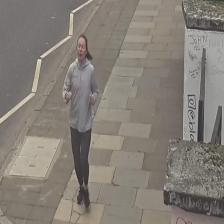person: (63, 34, 98, 210)
